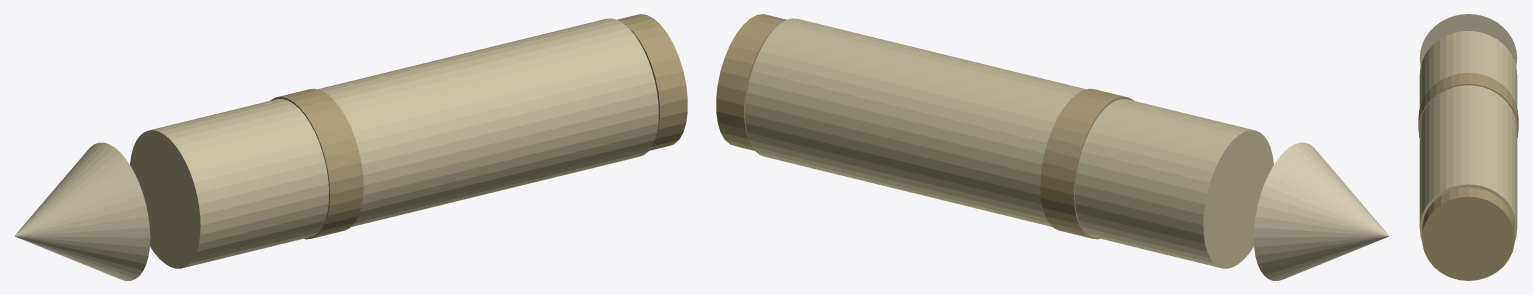
Rendered from AHEAD_Fragmentation_Round_AI_Rodin.glb.
3 views of the same model, side by side, from view 1: azimuth 30°, elevation 25°; view 2: azimuth 150°, elevation 25°; view 3: azimuth 270°, elevation 25° (orthographic). The views are drawn at different scales.
Visible parts, largest first — view 1: world; view 2: world; view 3: world.
Part boxes in pixels (<box>): world: <box>14,14,687,280</box>; world: <box>716,14,1389,280</box>; world: <box>1418,14,1518,280</box>.
Size of the model in its own units: 1.15 by 0.226 by 0.226.
